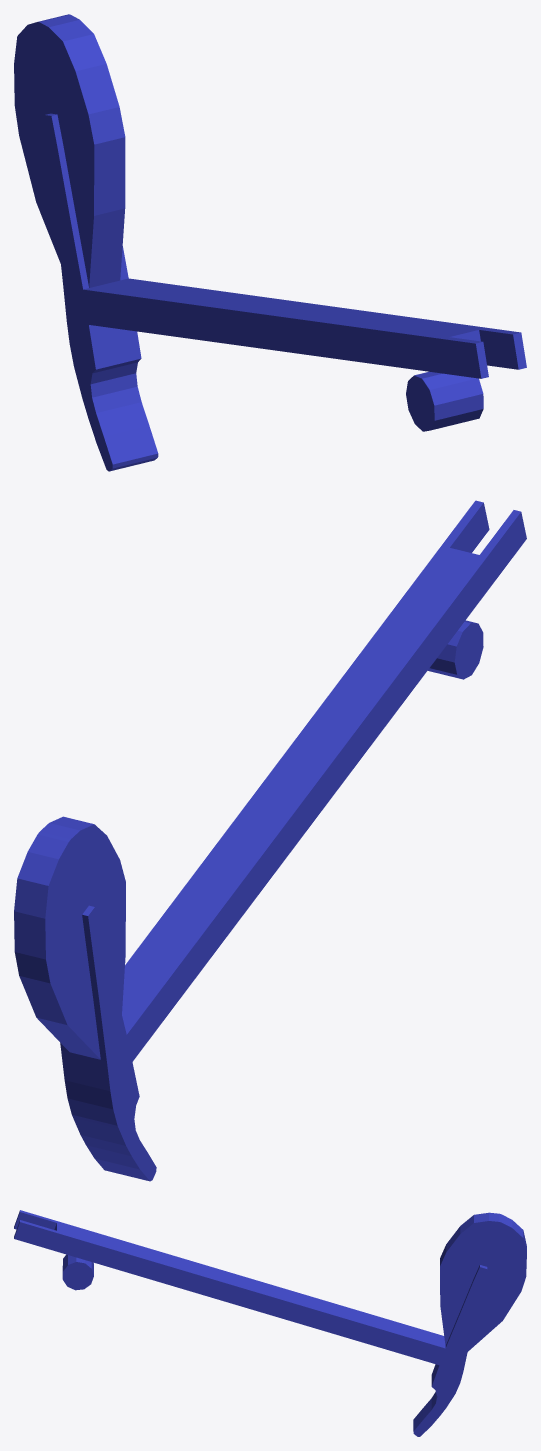
The model's file is key_hammer.obj.
3 views of the same model, one above another, from view 1: azimuth 30°, elevation 25°; view 2: azimuth 150°, elevation 25°; view 3: azimuth 270°, elevation 25° (orthographic). The views are drawn at different scales.
Visible parts, largest first — view 1: white_keys.010_Cube.049; view 2: white_keys.010_Cube.049; view 3: white_keys.010_Cube.049.
Boxes of the visible parts, box(x1,y1,x2,y2) form: white_keys.010_Cube.049: box(14, 14, 526, 471); white_keys.010_Cube.049: box(14, 500, 526, 1181); white_keys.010_Cube.049: box(14, 1210, 526, 1436).
Size of the model in its own units: 0.0111 by 0.0858 by 0.1857.
Materials: 1 (1 with a texture image).
